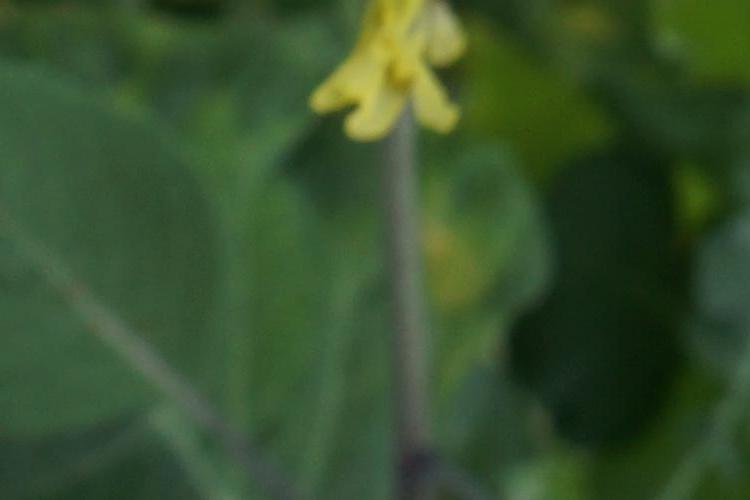yellow: (309, 16, 474, 153)
